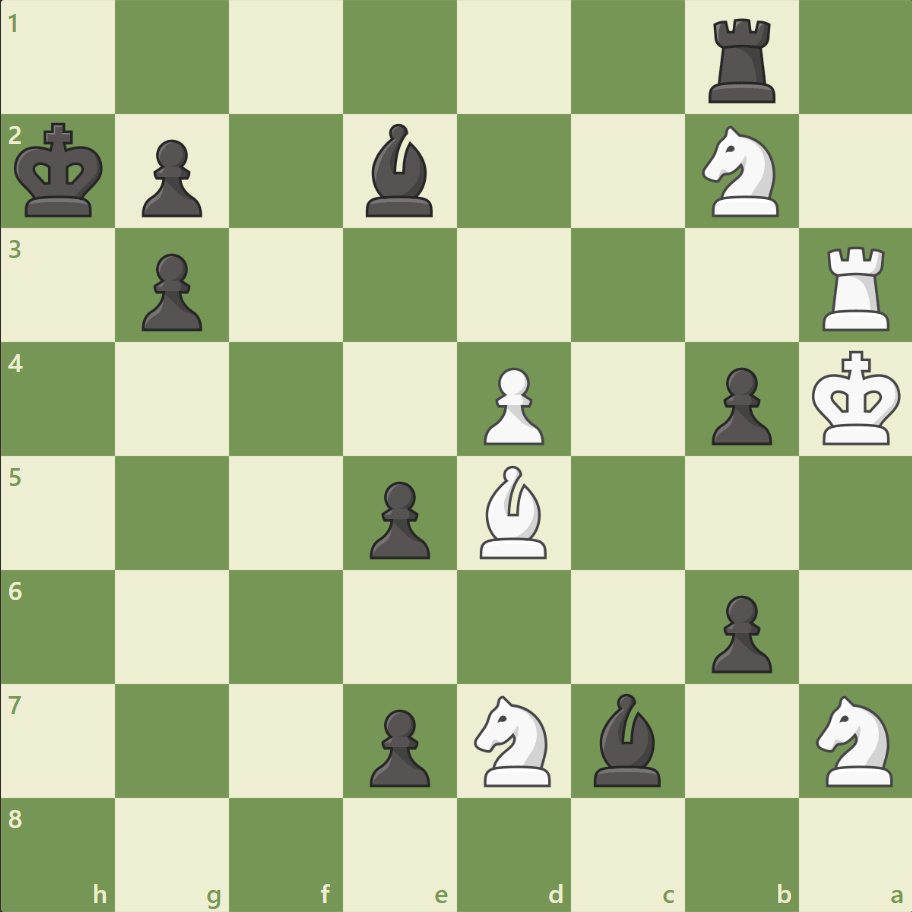B: (471, 460, 555, 563)
K: (806, 344, 906, 452)
N: (806, 688, 903, 791), (465, 688, 562, 791), (692, 121, 789, 223)
P: (474, 359, 549, 450)
R: (814, 239, 897, 336)
b: (585, 687, 669, 790), (358, 120, 442, 222)
k: (11, 117, 111, 225)
p: (701, 586, 776, 677), (701, 359, 776, 450), (133, 246, 208, 337), (133, 132, 208, 223), (361, 700, 435, 791), (361, 473, 435, 564)
r: (700, 12, 783, 109)
